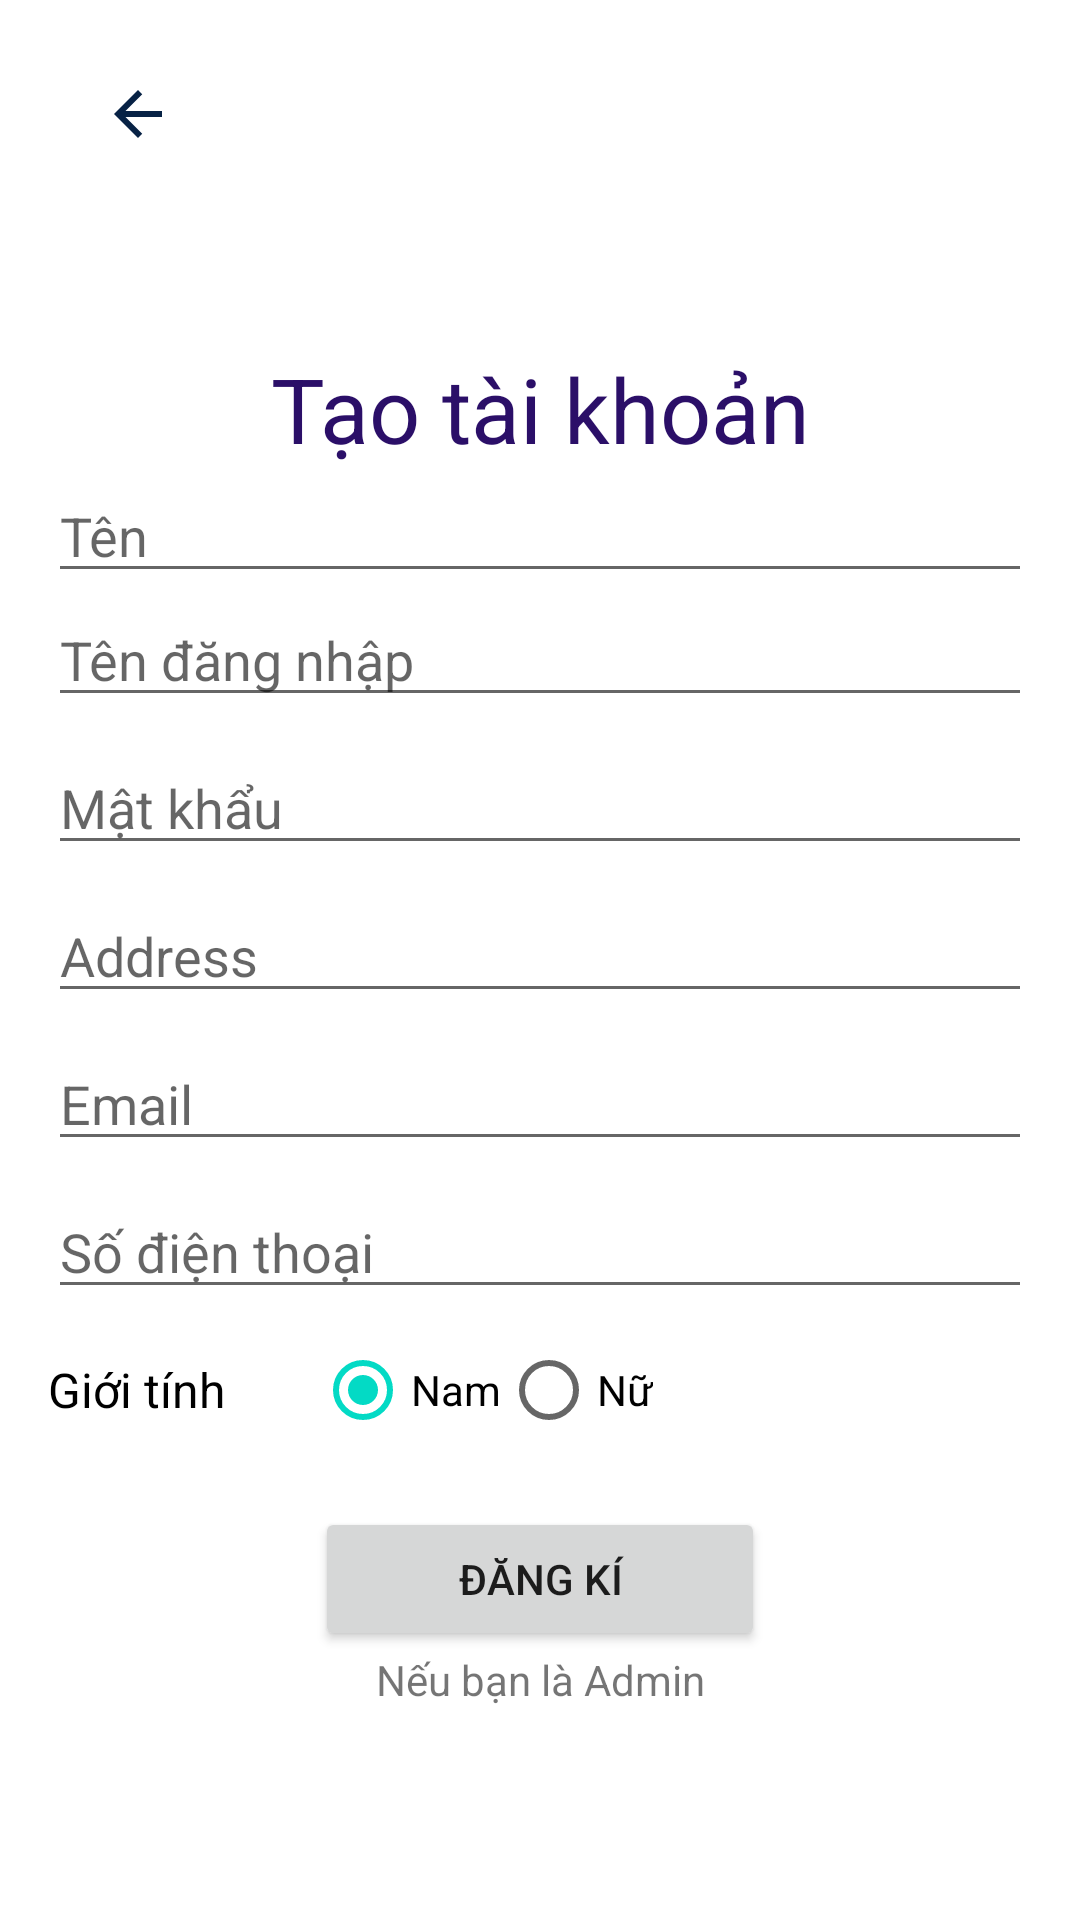

Point at icon controls on the screen. Image size 1080 x 1920, points as (x,y).
arrow back: (138,114)
